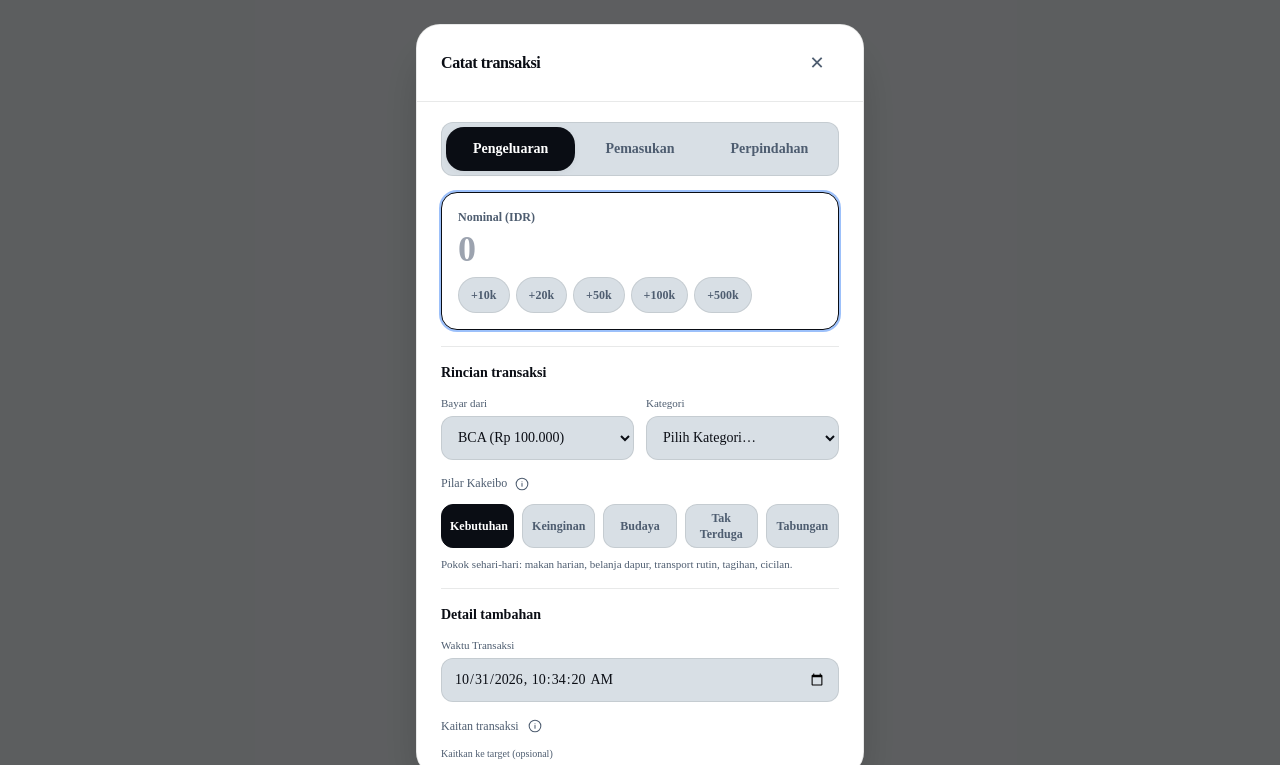
QuickCaptureModal › filters categories after switching transaction type and keeps the form accessible
The width and height of the screenshot is (1280, 765).
Click the button "Pemasukan" at (640, 149), box x1=575 y1=127 x2=705 y2=171
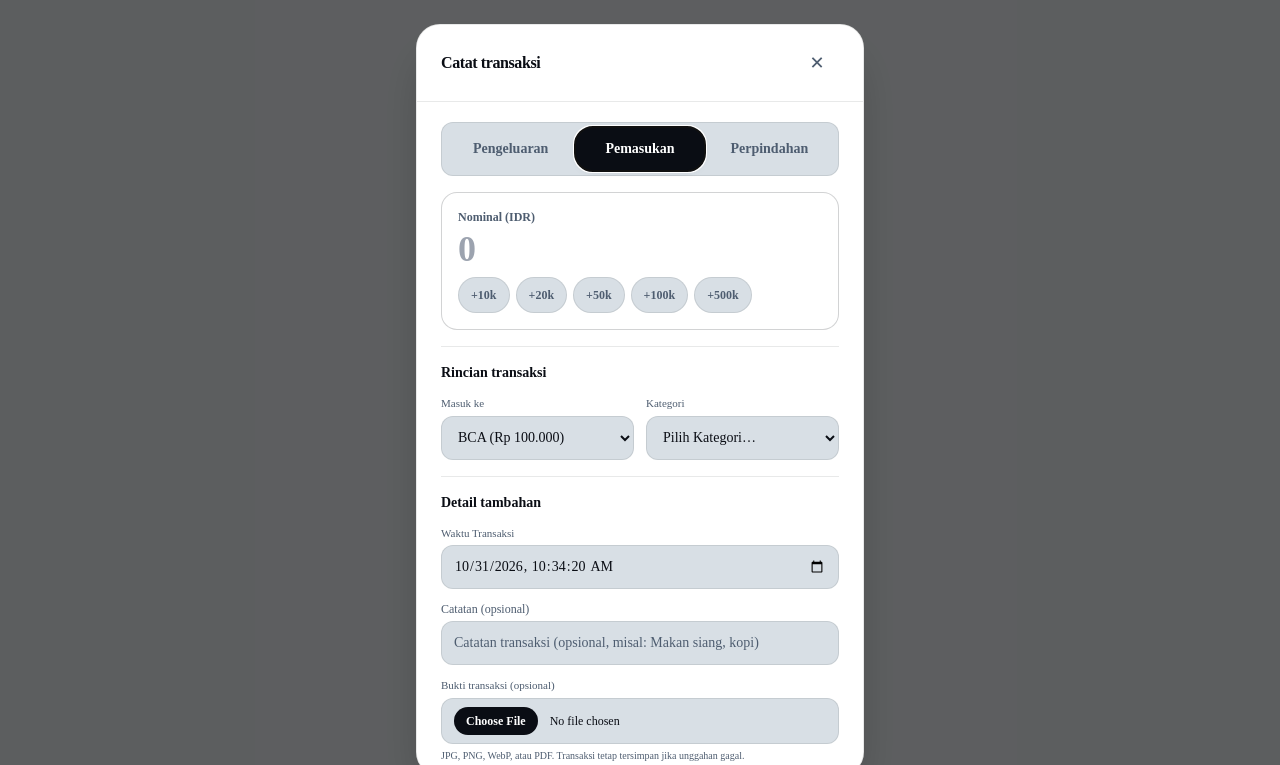
Expected: the dropdown labelled "Kategori" shows "Pilih Kategori…", x1=646 y1=416 x2=839 y2=460
Now the text "Pilar Kakeibo" is gone
